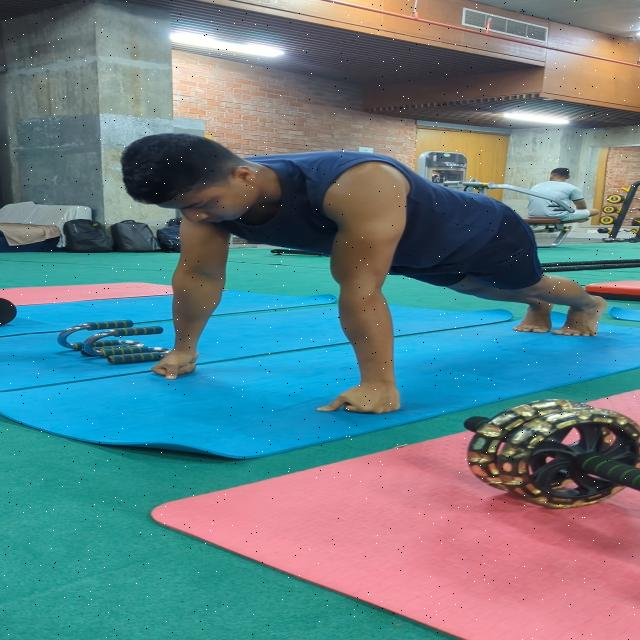Normal_PushUps: (98, 130, 613, 417)
